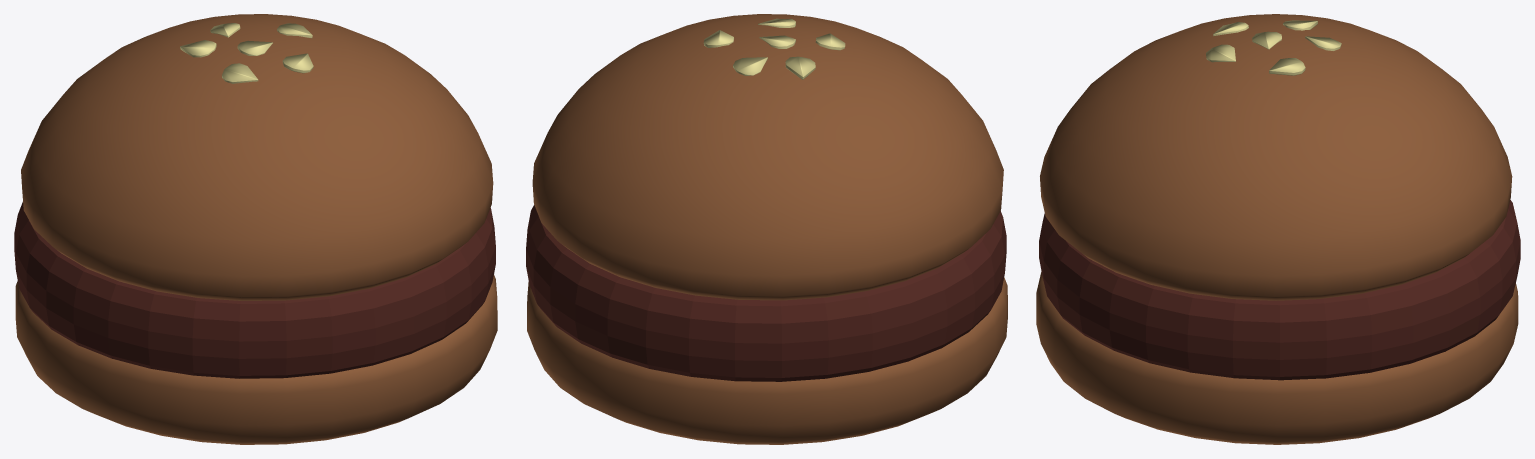
Rendered from Burger.fbx.
The picture shows the model from 3 angles, left to right: view 1: azimuth 30°, elevation 25°; view 2: azimuth 150°, elevation 25°; view 3: azimuth 270°, elevation 25°; orthographic projection.
Parts seen in each view (by area): view 1: BurgerBun, Cylinder; view 2: BurgerBun, Cylinder; view 3: BurgerBun, Cylinder.
Boxes of the visible parts, left/top/right/bottom form: BurgerBun: left=15, top=14, right=497, bottom=444; Cylinder: left=14, top=202, right=495, bottom=378; BurgerBun: left=527, top=14, right=1007, bottom=444; Cylinder: left=526, top=205, right=1006, bottom=381; BurgerBun: left=1036, top=14, right=1518, bottom=444; Cylinder: left=1039, top=200, right=1520, bottom=380.
Bounding box in the file's own units: 125 × 89.81 × 126.
